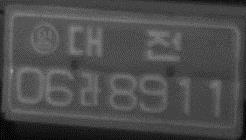0: (15, 65, 45, 106)
1: (176, 74, 193, 116), (208, 78, 225, 120)
6: (44, 67, 74, 108)
8: (108, 71, 137, 111)
9: (138, 71, 168, 115)
대전_D: (66, 23, 183, 62)
라: (78, 70, 102, 107)
영: (30, 22, 60, 57)
